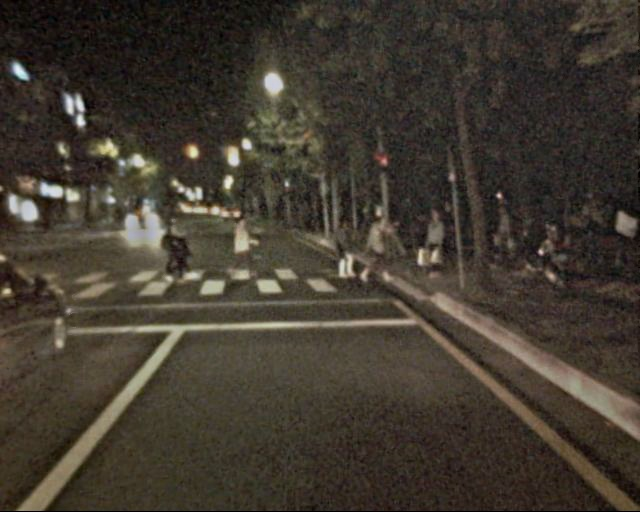person: (156, 206, 190, 288), (362, 212, 394, 289), (225, 212, 254, 283), (404, 211, 433, 282), (328, 213, 356, 281), (492, 200, 520, 268), (424, 211, 451, 277), (436, 200, 463, 265)
